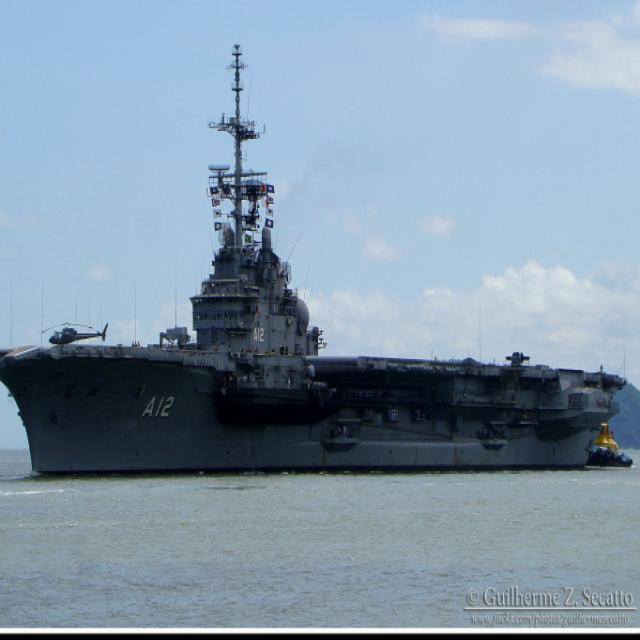Portanaves: (1, 40, 630, 491)
